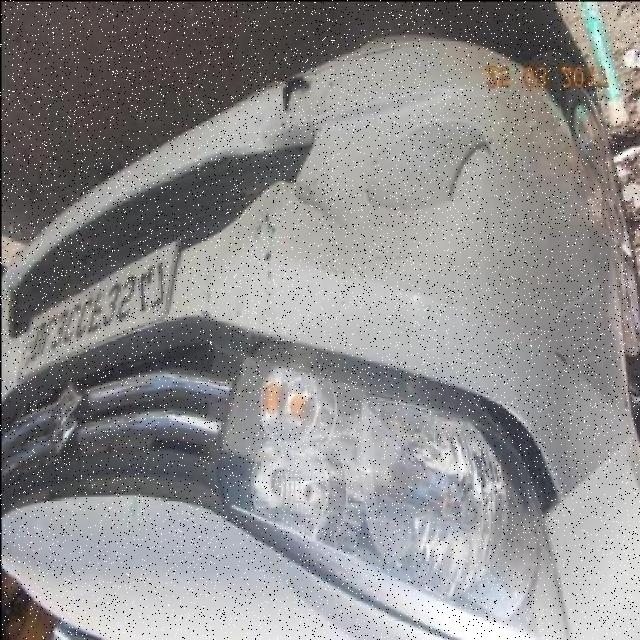damage: (290, 38, 411, 84), (250, 209, 277, 292), (276, 70, 313, 122), (195, 271, 215, 316), (365, 139, 392, 170), (358, 178, 377, 212), (549, 342, 570, 371)
